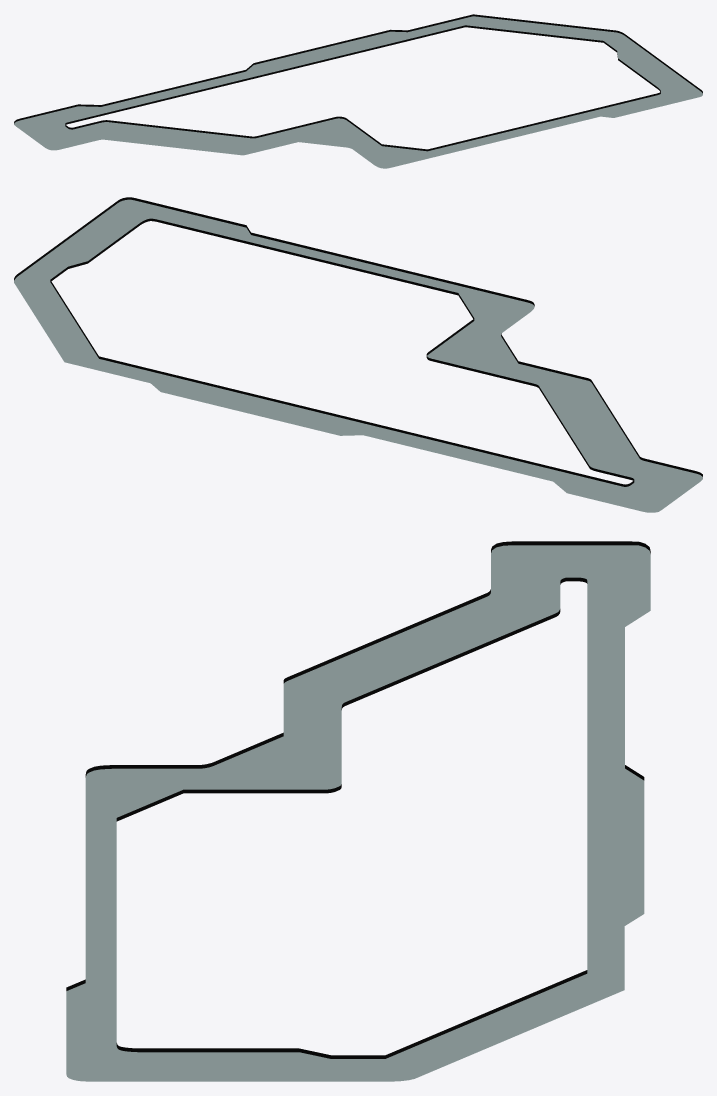
Rendered from Mute_Cty_I_4_Coll.fbx.
3 views of the same model, one above another, from view 1: azimuth 30°, elevation 25°; view 2: azimuth 150°, elevation 25°; view 3: azimuth 270°, elevation 25° (orthographic). The views are drawn at different scales.
Parts seen in each view (by area): view 1: Coll_Road, Coll_Wall; view 2: Coll_Road, Coll_Wall; view 3: Coll_Road, Coll_Wall.
Boxes of the visible parts, x1=… form: Coll_Road: x1=14, y1=16, x2=702, y2=168; Coll_Wall: x1=14, y1=14, x2=702, y2=151; Coll_Road: x1=14, y1=199, x2=702, y2=512; Coll_Wall: x1=14, y1=197, x2=702, y2=486; Coll_Road: x1=66, y1=545, x2=650, y2=1081; Coll_Wall: x1=66, y1=541, x2=650, y2=1058.
Bounding box in the file's own units: 91761 × 300 × 42237.
